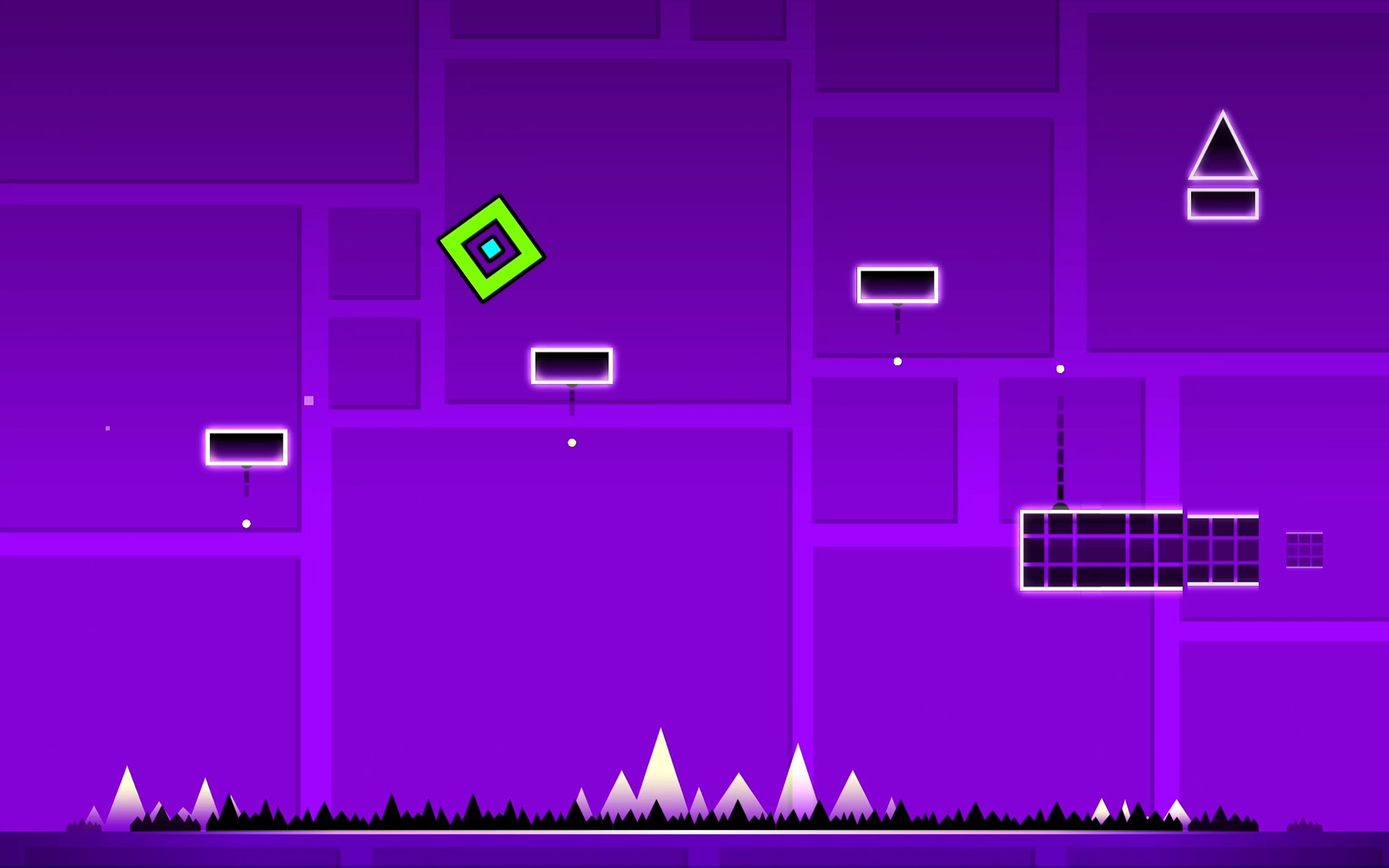Block2: (1018, 512, 1261, 589)
Block3: (533, 347, 617, 386), (859, 267, 944, 305), (206, 428, 289, 466), (1189, 188, 1264, 220)
Player: (437, 200, 543, 305)
Spike: (1190, 111, 1259, 180)
Spike3: (34, 783, 1358, 831)
